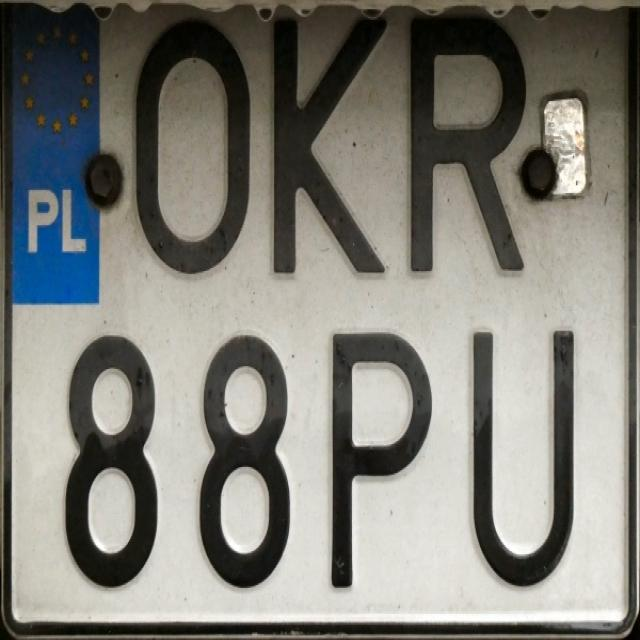pl_license_plate: (12, 9, 626, 620)
